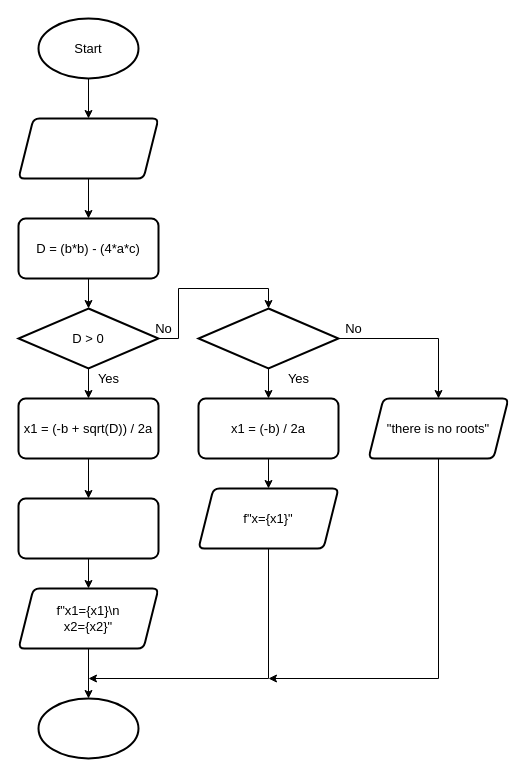
The diagram is 526 pixels wide and 776 high, and some of its shapes have lost their labels. The centre of each missing label's shape, as x and y in pixels:
a, b, c: (88,148)
D = 0: (268,338)
End: (88,728)
x2 = (-b - sqrt(D)) / 2a: (88,528)
